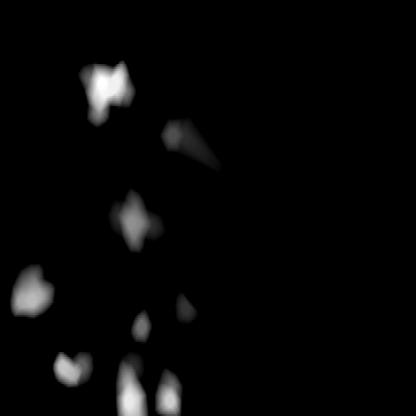fingers: (82, 62, 128, 118)
palm: (15, 271, 191, 414)
